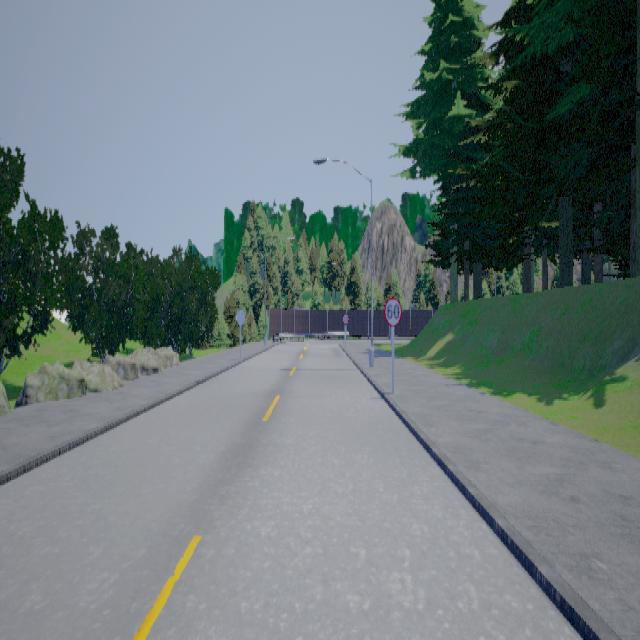traffic_sign: (383, 295, 401, 325)
